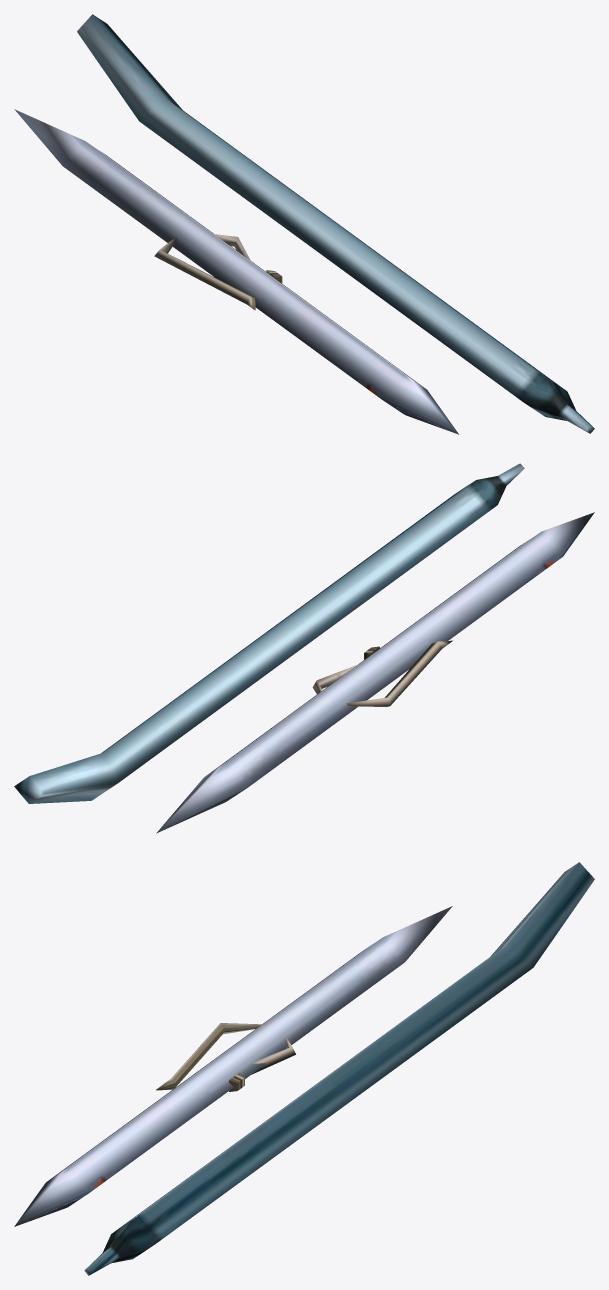
File: eqp_writing_utensils_l1.fbx
3 views of the same model, one above another, from view 1: azimuth 30°, elevation 25°; view 2: azimuth 150°, elevation 25°; view 3: azimuth 330°, elevation 25° (orthographic).
Parts seen in each view (by area): view 1: mesh_node; view 2: mesh_node; view 3: mesh_node.
Part boxes in pixels (<box>): mesh_node: <box>14,14,594,434</box>; mesh_node: <box>14,463,594,833</box>; mesh_node: <box>14,862,594,1275</box>.
Bounding box in the file's own units: 0.0503 × 0.0197 × 0.2491.
1 material, 1 textured.
